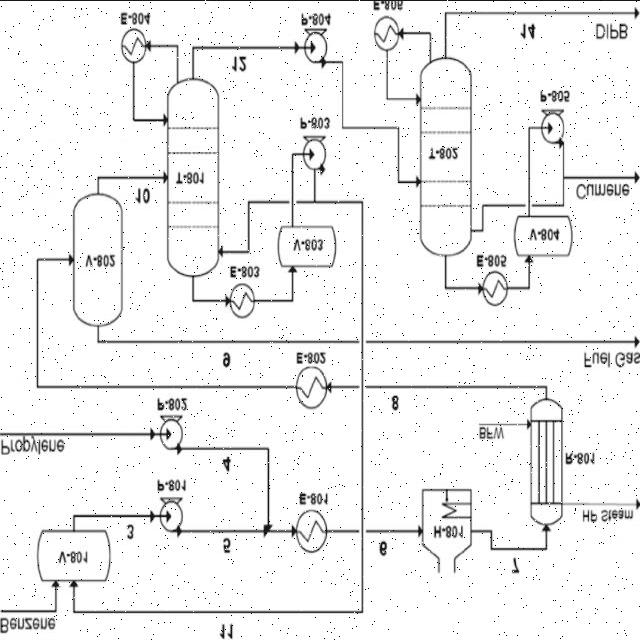Centrifugal Pump: (294, 27, 334, 79), (534, 108, 572, 162), (152, 494, 190, 544), (153, 411, 191, 461), (296, 130, 334, 178)
